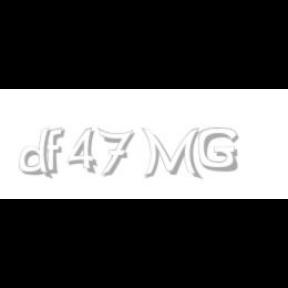4: (66, 128, 97, 174)
7: (98, 128, 134, 178)
G: (198, 128, 238, 172)
M: (142, 128, 200, 180)
d: (20, 128, 56, 180)
f: (44, 128, 68, 174)
